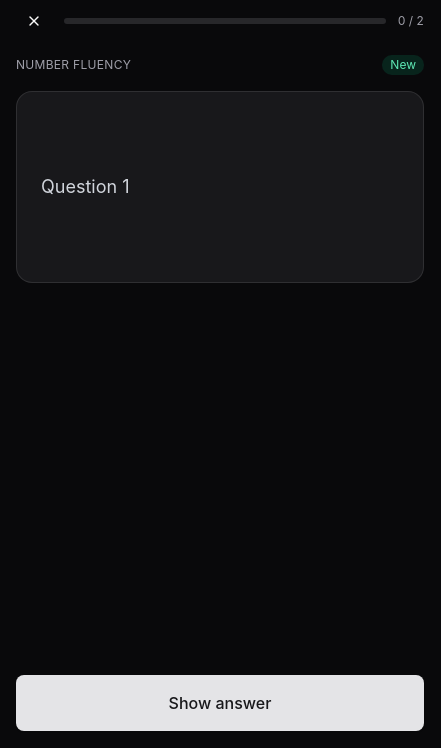
it: StudyPage › reveals, rates, advances, and shows the summary when the queue empties
expect the text "Question 1" is shown: met, box [41,176,130,197]
expect the text "Answer 1" is not shown: met
Step 1. Click the button "Show answer" → (220, 703), box [16,675,424,731]
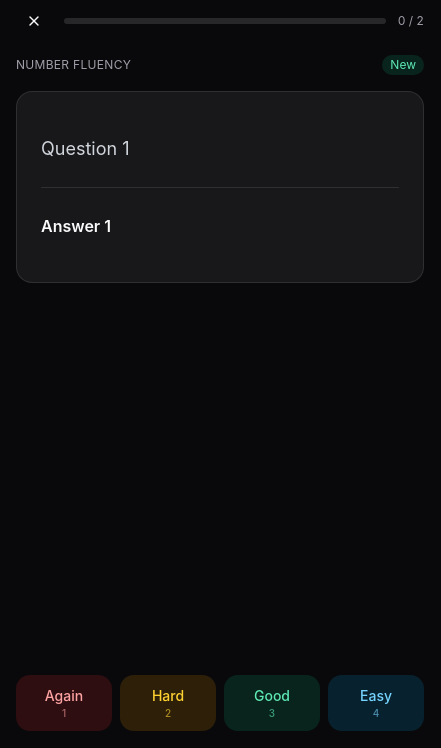
expect the text "Answer 1" is shown: met, box [41,216,111,236]
Step 2. Click the button "Good 3" → (272, 703), box [224,675,320,731]
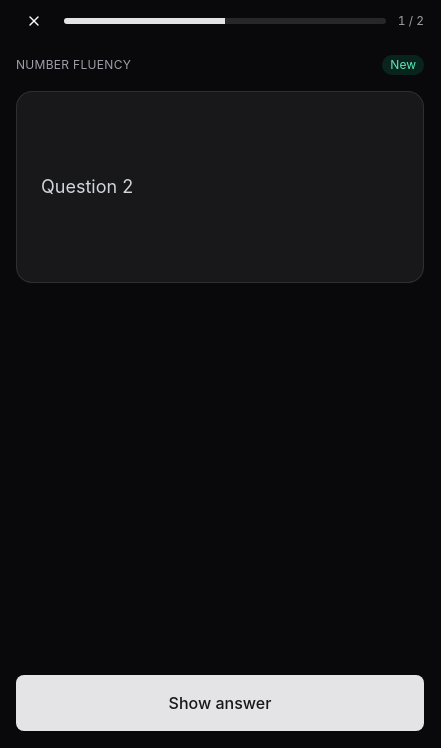
expect the text "Question 2" is shown: met, box [41,176,133,197]
Step 3. Type keys " "
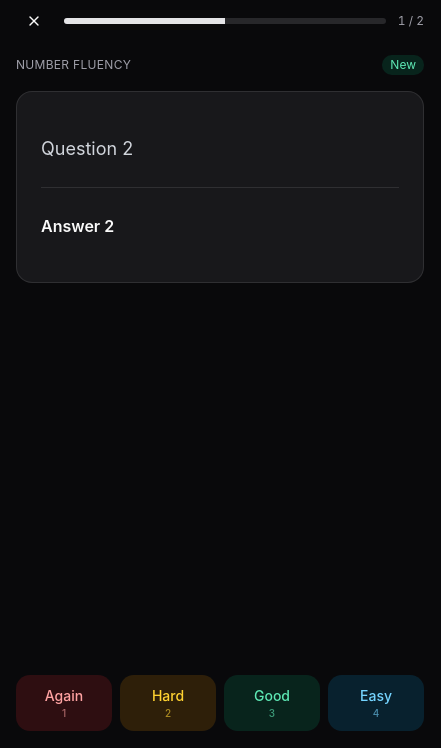
expect the text "Answer 2" is shown: met, box [41,216,114,236]
Step 4. Type keys "1"
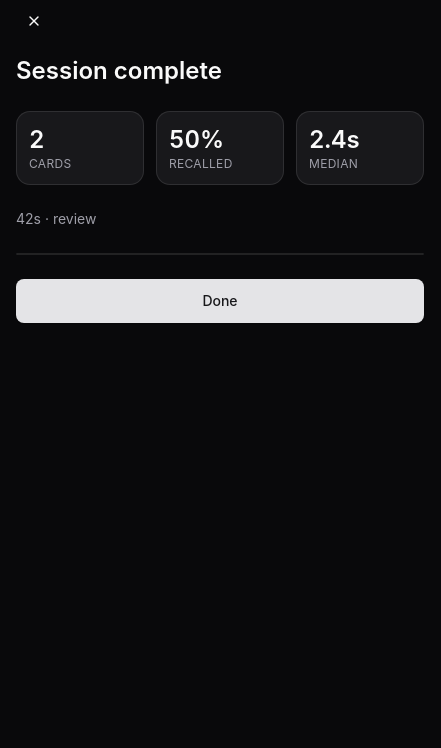
expect the heading "Session complete" is shown: met, box [16,56,222,85]
expect the text "50%" is shown: met, box [169,125,224,154]
